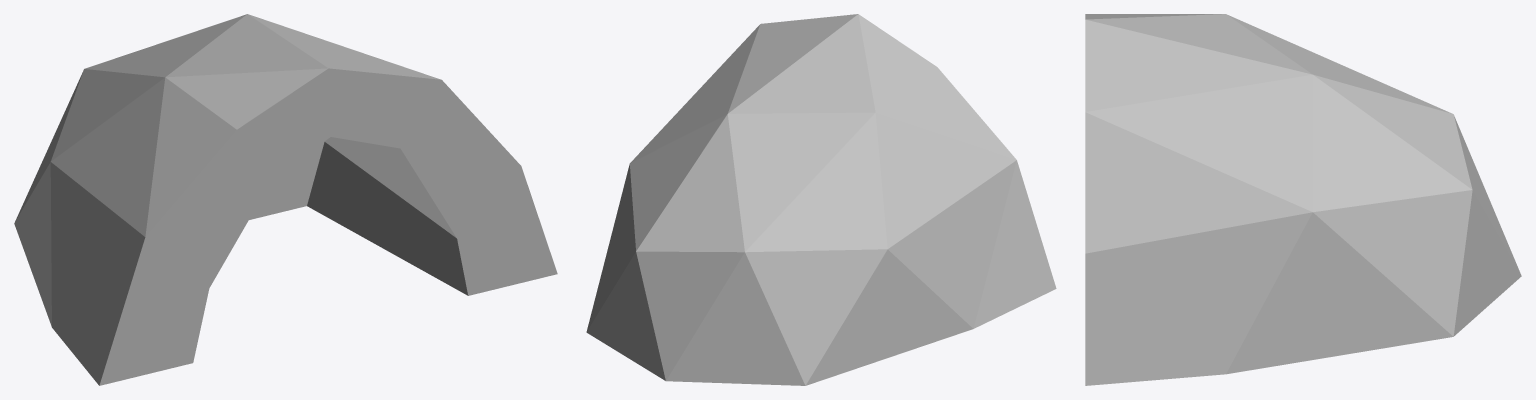
Rendered from SPW_Natures_Stone_03.glb.
The picture shows the model from 3 angles, left to right: view 1: azimuth 30°, elevation 25°; view 2: azimuth 150°, elevation 25°; view 3: azimuth 270°, elevation 25°; orthographic projection. The views are drawn at different scales.
Visible parts, largest first — view 1: SPW_Natures_Stone_03; view 2: SPW_Natures_Stone_03; view 3: SPW_Natures_Stone_03.
Boxes of the visible parts, left/top/right/bottom form: SPW_Natures_Stone_03: left=14, top=14, right=557, bottom=385; SPW_Natures_Stone_03: left=586, top=14, right=1056, bottom=385; SPW_Natures_Stone_03: left=1085, top=14, right=1521, bottom=385.
Bounding box in the file's own units: 4.76 × 2.6 × 4.
1 material, 1 textured.
